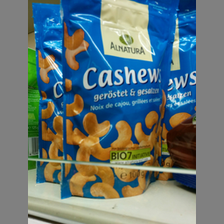nuts: (60, 1, 179, 201)
